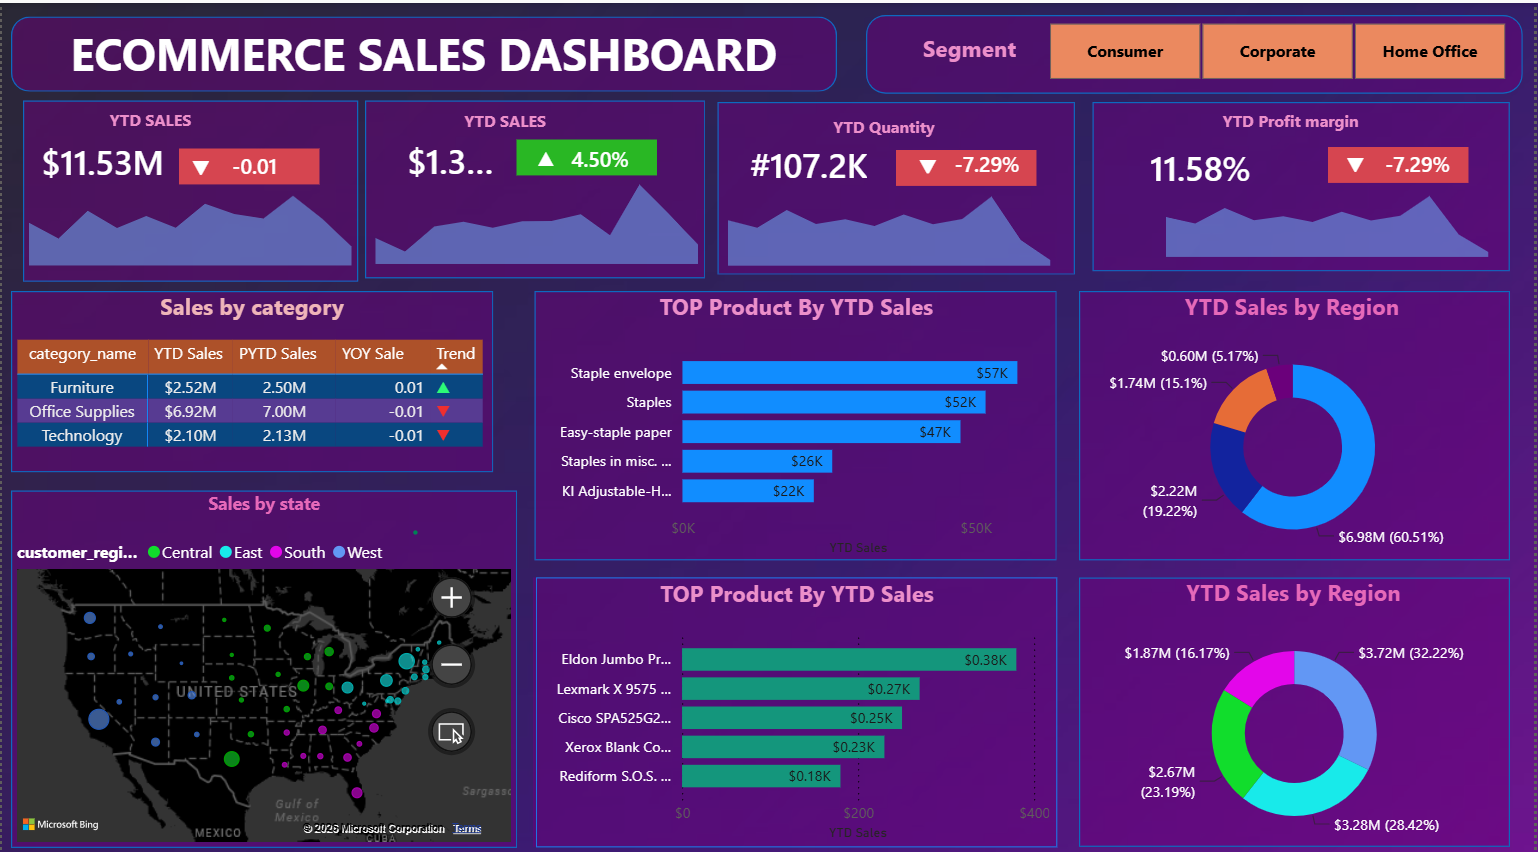

This screenshot's page, from the dashboard's own definition file:
{"tool":"powerbi","page":{"name":"Page 1","canvas":[1280,720],"ordinal":0},"visuals":[{"type":"shape","box":[597.1,82.9,298.6,144.3],"z":0},{"type":"shape","box":[17.1,81.4,280,151.4],"z":1000},{"type":"shape","box":[7.1,11.4,690,62.9],"z":2000},{"type":"shape","box":[7.1,407.1,422.9,298.6],"z":3000},{"type":"textbox","box":[20,11.4,664.3,64.3],"z":4000},{"type":"cardVisual","fields":{"Data":["ecommerce_data.YTS Sales"]},"box":[0,84.3,168.9,94.4],"z":5000},{"type":"shape","box":[148.1,121.4,117,30],"z":6000},{"type":"areaChart","fields":{"Category":["Calendar.Month"],"Y":["Sum(ecommerce_data.sales_per_order)"]},"box":[7.1,137.1,298.9,87.8],"z":7000},{"type":"cardVisual","fields":{"Data":["ecommerce_data.sales Icon"]},"box":[126.7,112.9,79,48],"z":8000},{"type":"cardVisual","fields":{"Data":["ecommerce_data.YOY Sale"]},"box":[148.1,107.1,126,54],"z":9000},{"type":"textbox","box":[42.4,82.9,162.9,71.4],"z":10000},{"type":"shape","box":[302.9,81.4,284.3,148.6],"z":11000},{"type":"shape","box":[429.5,113.8,117,30],"z":12000},{"type":"cardVisual","fields":{"Data":["ecommerce_data.profit Icon"]},"box":[415.2,105.2,79,48],"z":13000},{"type":"cardVisual","fields":{"Data":["ecommerce_data.YOY Profit"]},"box":[445.7,101.4,107.1,54.3],"z":14000},{"type":"textbox","box":[374.8,83.8,91.4,38.6],"z":15000},{"type":"cardVisual","fields":{"Data":["ecommerce_data.YTD Profit"]},"box":[310,95.7,144.3,70],"z":16000},{"type":"areaChart","fields":{"Category":["Calendar.Month"],"Y":["Sum(ecommerce_data.profit_per_order)"]},"box":[297.1,135.7,298.9,87.8],"z":17000},{"type":"cardVisual","fields":{"Data":["ecommerce_data.YOY Profit"]},"box":[758.1,110,107.1,54.3],"z":18000},{"type":"textbox","box":[681,88.6,112.9,38.6],"z":19000},{"type":"cardVisual","fields":{"Data":["ecommerce_data.YTD Conacatenated Qty"]},"box":[584.3,105.7,180,58.6],"z":20000},{"type":"shape","box":[746.7,122.9,117,30],"z":21000},{"type":"cardVisual","fields":{"Data":["ecommerce_data.QTY Icon"]},"box":[733.8,111.4,78.6,48.6],"z":22000},{"type":"cardVisual","fields":{"Data":["ecommerce_data.YOY Qty"]},"box":[759.5,104.3,127.1,58.6],"z":23000},{"type":"areaChart","fields":{"Category":["Calendar.Month"],"Y":["Sum(ecommerce_data.order_quantity)"]},"box":[591,144.3,298.6,80],"z":24000},{"type":"shape","box":[911.4,82.9,348.6,141.4],"z":25000},{"type":"textbox","box":[1001.4,84.3,154.3,38.6],"z":26000},{"type":"shape","box":[1107.1,120,117,30],"z":27000},{"type":"cardVisual","fields":{"Data":["ecommerce_data.QTY Icon"]},"box":[1091.4,110,78.6,48.6],"z":28000},{"type":"cardVisual","fields":{"Data":["ecommerce_data.YTD profit margin"]},"box":[911.4,107.1,180,58.6],"z":29000},{"type":"areaChart","fields":{"Category":["Calendar.Month"],"Y":["Sum(ecommerce_data.order_quantity)"]},"box":[957.1,144.3,298.6,72.9],"z":30000},{"type":"cardVisual","fields":{"Data":["ecommerce_data.YOY Qty"]},"box":[1118.6,104.3,127.1,58.6],"z":31000},{"type":"shape","box":[7.1,240,402.9,151.4],"z":32000},{"type":"pivotTable","title":"Sales by category","fields":{"Rows":["ecommerce_data.category_name"],"Values":["ecommerce_data.YTD Sales","ecommerce_data.PYTD Sales","ecommerce_data.YOY Sale","ecommerce_data.Trend"]},"box":[7.1,240,402.9,197.1],"z":33000},{"type":"shape","box":[445,240,436.2,225],"z":34000},{"type":"shape","box":[443.8,480,437.5,225],"z":35000},{"type":"barChart","title":"TOP Product By YTD Sales","fields":{"Category":["ecommerce_data.product_name"],"Y":["ecommerce_data.YTD Sales"]},"box":[446.2,240,435,225],"z":36000},{"type":"shape","box":[721.4,10,548.6,65.7],"z":37000},{"type":"barChart","title":"TOP Product By YTD Sales","fields":{"Category":["ecommerce_data.product_name"],"Y":["ecommerce_data.YTD Sales"]},"box":[446.2,480,435,225],"z":38000},{"type":"shape","box":[900,240,360,225],"z":39000},{"type":"donutChart","title":"YTD Sales by Region","fields":{"Y":["ecommerce_data.YTD Sales"],"Category":["ecommerce_data.shipping_type"]},"box":[900,240,356.2,225],"z":40000},{"type":"slicer","fields":{"Values":["ecommerce_data.customer_segment"]},"box":[850,10,430,60],"z":41000},{"type":"shape","box":[900,480,360,225],"z":42000},{"type":"donutChart","title":"YTD Sales by Region","fields":{"Category":["ecommerce_data.customer_region"],"Y":["ecommerce_data.YTD Sales"]},"box":[901.2,480,356.2,225],"z":43000},{"type":"textbox","box":[705.7,20,205.7,50],"z":44000},{"type":"map","title":"Sales by state","fields":{"Y":["us_state_long_lat_codes.latitude"],"X":["us_state_long_lat_codes.longitude"],"Size":["ecommerce_data.YTD Sales"],"Series":["ecommerce_data.customer_region"]},"box":[7.1,407.1,422.9,298.6],"z":45000}]}

Visuals, with their boxes in screenshot pixels (x1, y1, x2, y2), scaled from the page's 1280x720 canvas onto the 1538x852 screenshot:
shape: {"left": 717, "top": 98, "right": 1076, "bottom": 269}
shape: {"left": 21, "top": 96, "right": 357, "bottom": 275}
shape: {"left": 9, "top": 13, "right": 838, "bottom": 88}
shape: {"left": 9, "top": 482, "right": 517, "bottom": 835}
textbox: {"left": 24, "top": 13, "right": 822, "bottom": 90}
cardVisual - ecommerce_data.YTS Sales: {"left": 0, "top": 100, "right": 203, "bottom": 211}
shape: {"left": 178, "top": 144, "right": 319, "bottom": 179}
areaChart - Calendar.Month x Sum(ecommerce_data.sales_per_order): {"left": 9, "top": 162, "right": 368, "bottom": 266}
cardVisual - ecommerce_data.sales Icon: {"left": 152, "top": 134, "right": 247, "bottom": 190}
cardVisual - ecommerce_data.YOY Sale: {"left": 178, "top": 127, "right": 329, "bottom": 191}
textbox: {"left": 51, "top": 98, "right": 247, "bottom": 183}
shape: {"left": 364, "top": 96, "right": 706, "bottom": 272}
shape: {"left": 516, "top": 135, "right": 657, "bottom": 170}
cardVisual - ecommerce_data.profit Icon: {"left": 499, "top": 124, "right": 594, "bottom": 181}
cardVisual - ecommerce_data.YOY Profit: {"left": 536, "top": 120, "right": 664, "bottom": 184}
textbox: {"left": 450, "top": 99, "right": 560, "bottom": 145}
cardVisual - ecommerce_data.YTD Profit: {"left": 372, "top": 113, "right": 546, "bottom": 196}
areaChart - Calendar.Month x Sum(ecommerce_data.profit_per_order): {"left": 357, "top": 161, "right": 716, "bottom": 264}
cardVisual - ecommerce_data.YOY Profit: {"left": 911, "top": 130, "right": 1040, "bottom": 194}
textbox: {"left": 818, "top": 105, "right": 954, "bottom": 151}
cardVisual - ecommerce_data.YTD Conacatenated Qty: {"left": 702, "top": 125, "right": 918, "bottom": 194}
shape: {"left": 897, "top": 145, "right": 1038, "bottom": 181}
cardVisual - ecommerce_data.QTY Icon: {"left": 882, "top": 132, "right": 976, "bottom": 189}
cardVisual - ecommerce_data.YOY Qty: {"left": 913, "top": 123, "right": 1065, "bottom": 193}
areaChart - Calendar.Month x Sum(ecommerce_data.order_quantity): {"left": 710, "top": 171, "right": 1069, "bottom": 265}
shape: {"left": 1095, "top": 98, "right": 1514, "bottom": 265}
textbox: {"left": 1203, "top": 100, "right": 1389, "bottom": 145}
shape: {"left": 1330, "top": 142, "right": 1471, "bottom": 178}
cardVisual - ecommerce_data.QTY Icon: {"left": 1311, "top": 130, "right": 1406, "bottom": 188}
cardVisual - ecommerce_data.YTD profit margin: {"left": 1095, "top": 127, "right": 1311, "bottom": 196}
areaChart - Calendar.Month x Sum(ecommerce_data.order_quantity): {"left": 1150, "top": 171, "right": 1509, "bottom": 257}
cardVisual - ecommerce_data.YOY Qty: {"left": 1344, "top": 123, "right": 1497, "bottom": 193}
shape: {"left": 9, "top": 284, "right": 493, "bottom": 463}
"Sales by category" pivotTable: {"left": 9, "top": 284, "right": 493, "bottom": 517}
shape: {"left": 535, "top": 284, "right": 1059, "bottom": 550}
shape: {"left": 533, "top": 568, "right": 1059, "bottom": 834}
"TOP Product By YTD Sales" barChart: {"left": 536, "top": 284, "right": 1059, "bottom": 550}
shape: {"left": 867, "top": 12, "right": 1526, "bottom": 90}
"TOP Product By YTD Sales" barChart: {"left": 536, "top": 568, "right": 1059, "bottom": 834}
shape: {"left": 1081, "top": 284, "right": 1514, "bottom": 550}
"YTD Sales by Region" donutChart: {"left": 1081, "top": 284, "right": 1509, "bottom": 550}
slicer - ecommerce_data.customer_segment: {"left": 1021, "top": 12, "right": 1537, "bottom": 83}
shape: {"left": 1081, "top": 568, "right": 1514, "bottom": 834}
"YTD Sales by Region" donutChart: {"left": 1083, "top": 568, "right": 1511, "bottom": 834}
textbox: {"left": 848, "top": 24, "right": 1095, "bottom": 83}
"Sales by state" map: {"left": 9, "top": 482, "right": 517, "bottom": 835}
